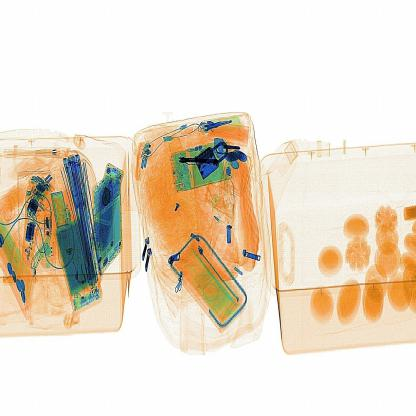knife: (177, 148, 226, 178)
